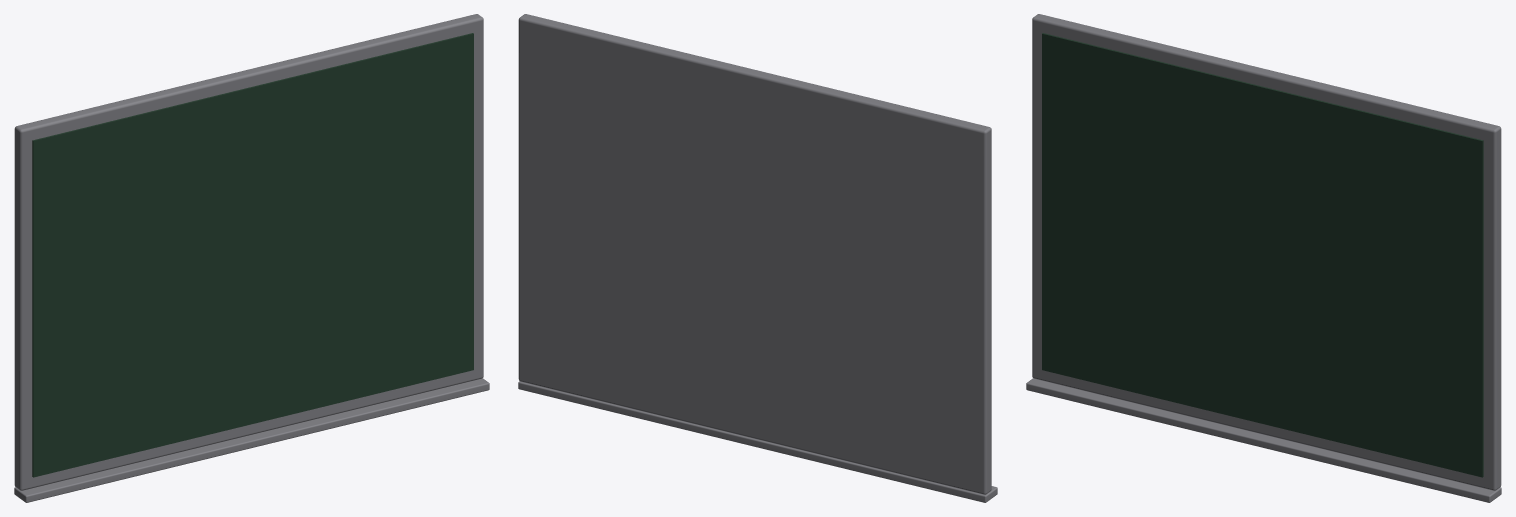
Rendered from terminal.glb.
3 renders of one model, left to right at view 1: azimuth 30°, elevation 25°; view 2: azimuth 150°, elevation 25°; view 3: azimuth 330°, elevation 25°, orthographic.
Parts seen in each view (by area): view 1: screen, bezel, lip; view 2: bezel, lip; view 3: screen, bezel, lip.
Boxes of the visible parts, <box> form: screen: <box>32,33,473,477</box>; bezel: <box>14,14,483,490</box>; lip: <box>14,378,489,502</box>; bezel: <box>518,14,991,494</box>; lip: <box>518,381,997,502</box>; screen: <box>1042,33,1483,477</box>; bezel: <box>1032,14,1501,490</box>; lip: <box>1026,378,1501,502</box>.
Bounding box in the file's own units: 3.9 × 2.96 × 0.18.
